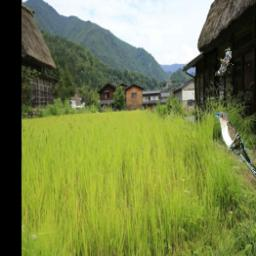Cuckoo: (214, 111, 256, 190)
Woodpecker: (214, 48, 233, 77)
